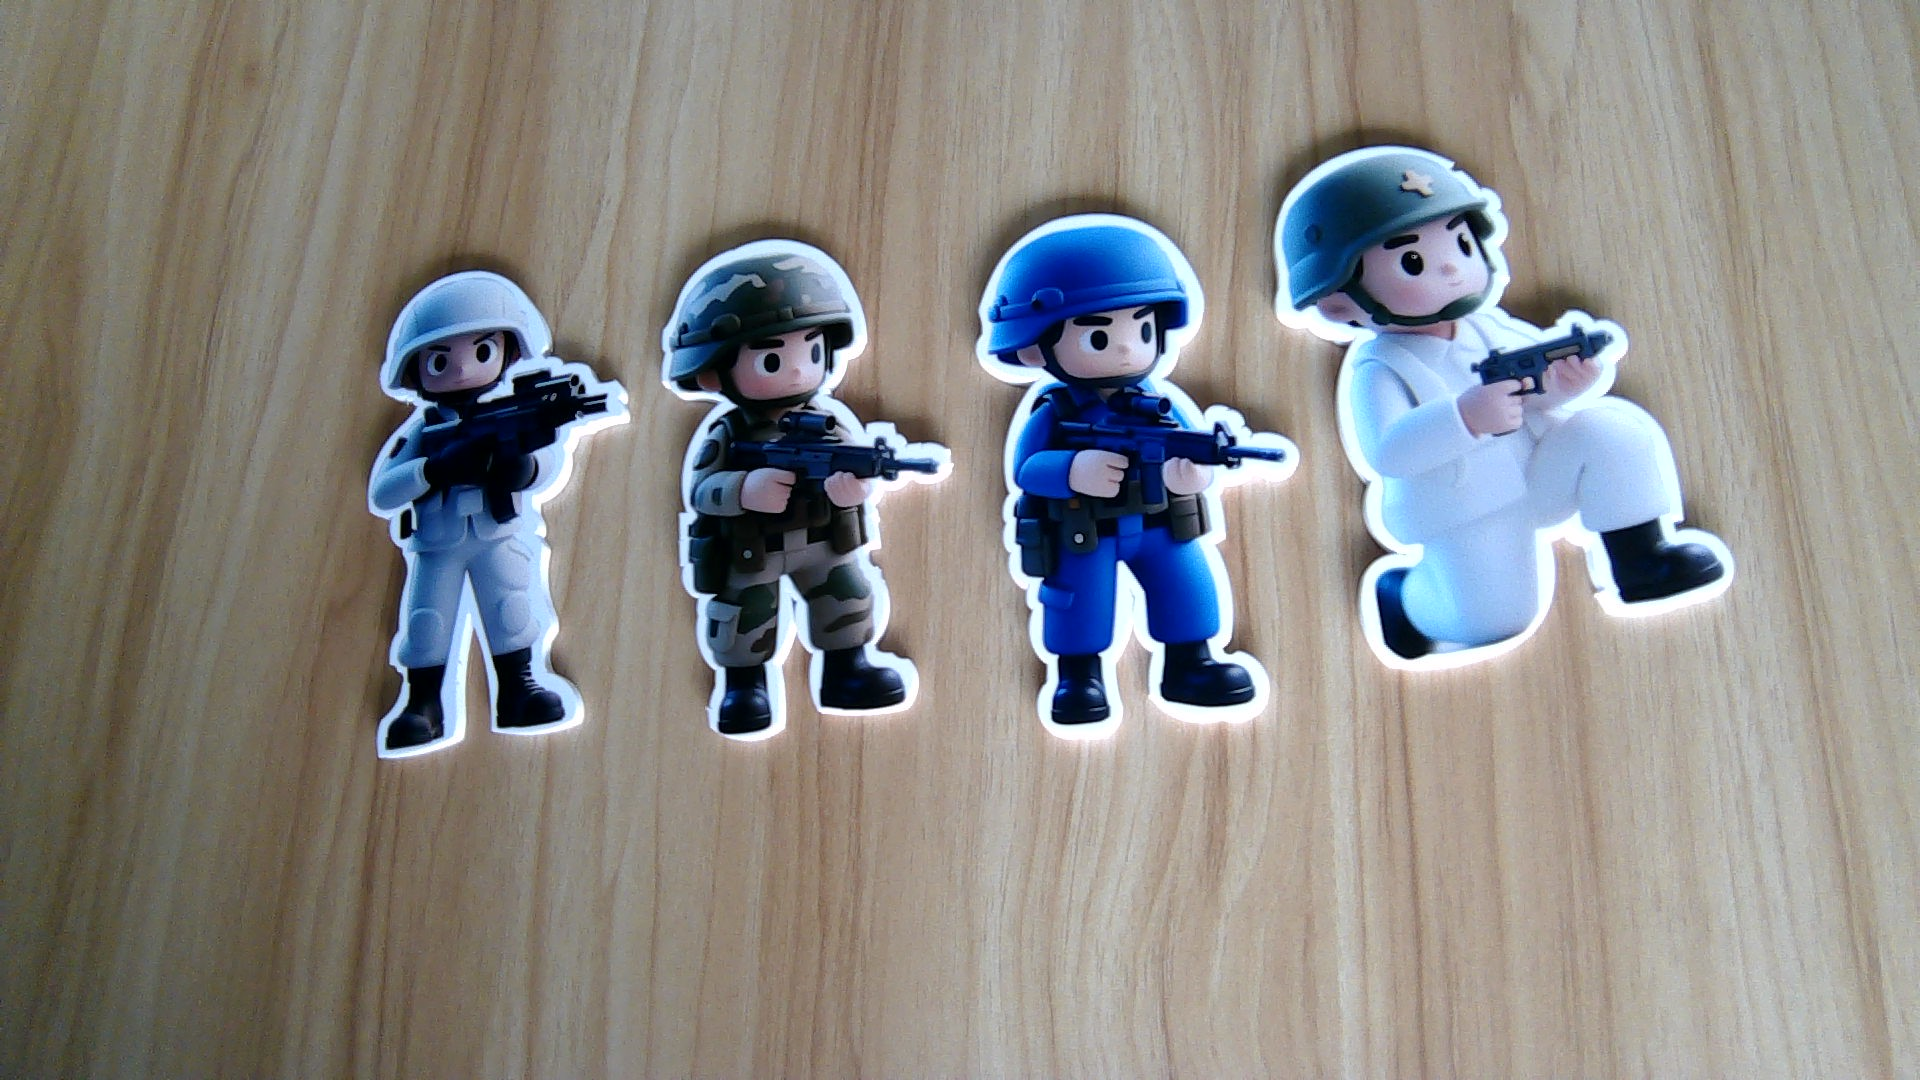人质: (1323, 310, 1739, 662), (359, 393, 636, 762)
友军: (669, 407, 944, 746)
敌人2: (1004, 386, 1292, 741)
